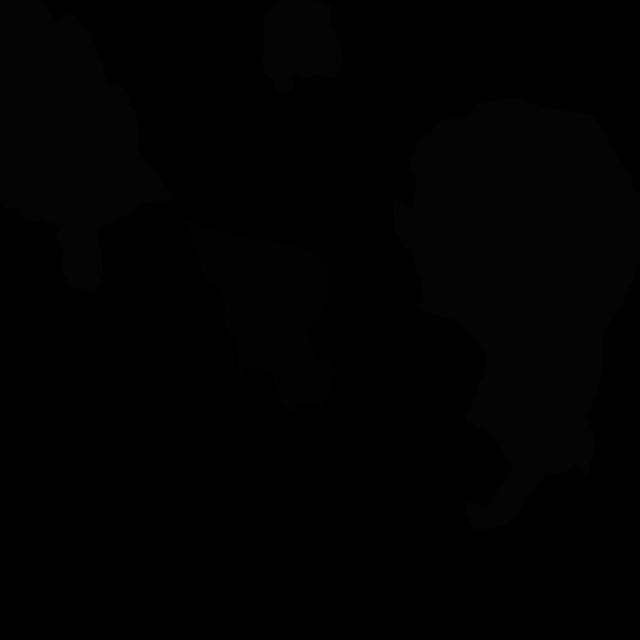cardboard: (184, 218, 336, 415)
soft_plastic: (393, 97, 640, 531), (262, 0, 343, 93)
